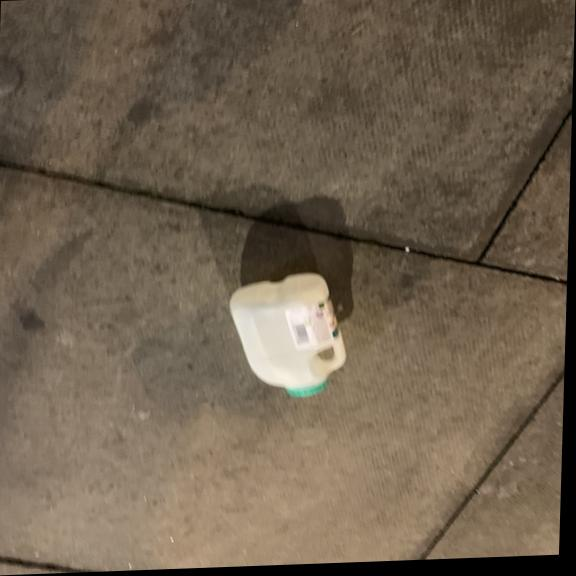Plastik: (224, 266, 353, 402)
